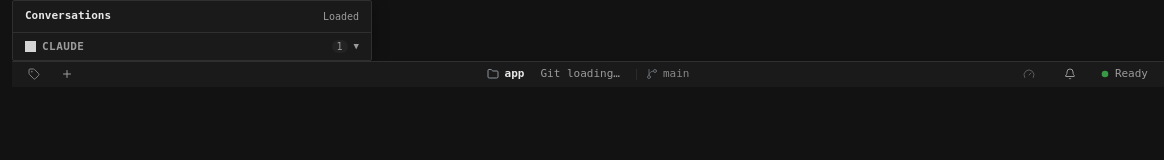
Test case: resuming isolated-agent conversations from chat history › records the checkout main returned, binds the terminal to it and shows the branch on the agent
The image size is (1164, 160).
Click the button "Claude 1 ▼" at (63,46), box [13, 32, 371, 60]
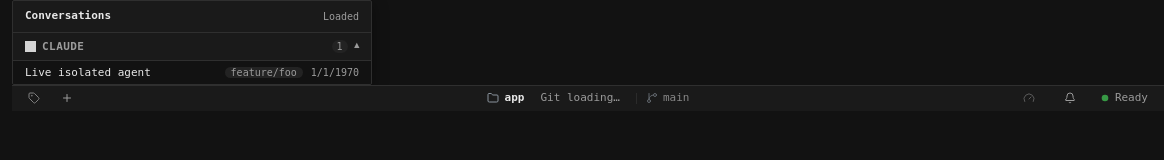
Click the button "Live isolated agent feature/foo 1/1/1970" at (88,72), box [13, 60, 371, 84]
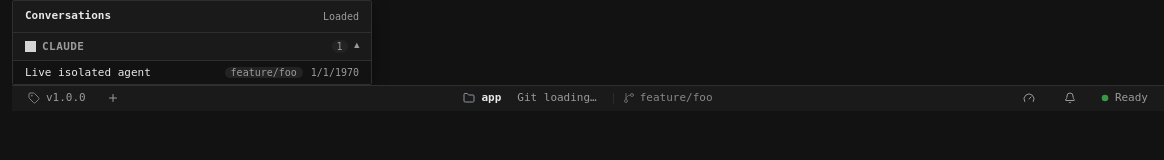
Result: the element with class "status-branch" reads "feature/foo" at [640, 91, 713, 104]
